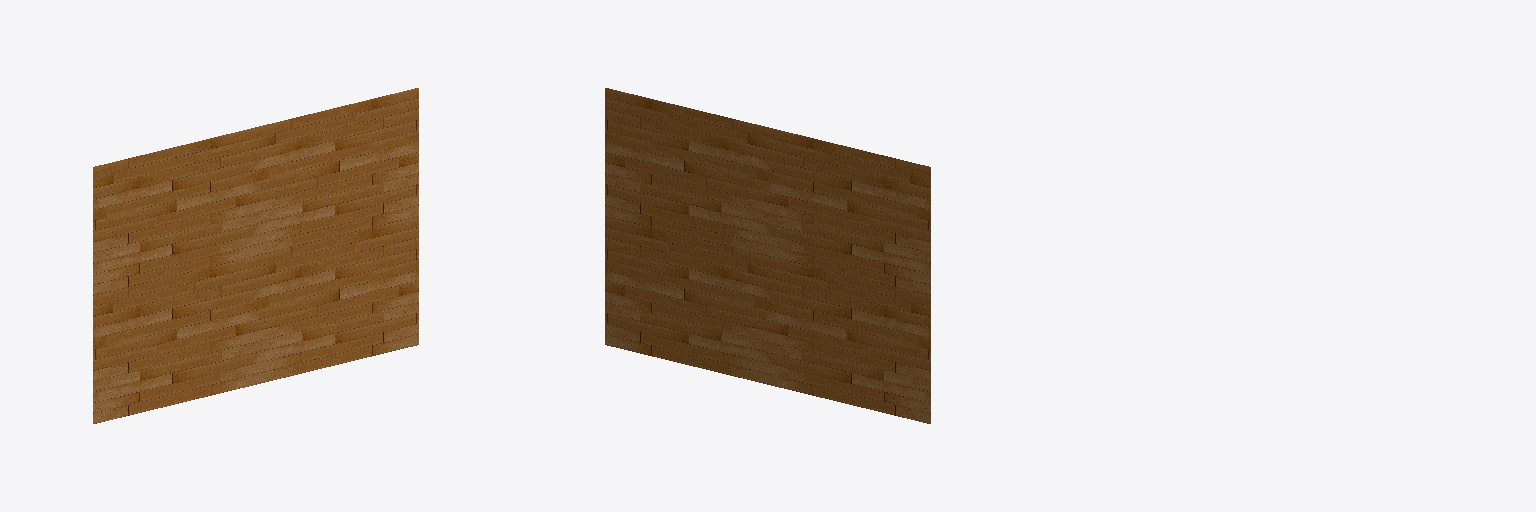
The picture shows the model from 3 angles: view 1: azimuth 30°, elevation 25°; view 2: azimuth 150°, elevation 25°; view 3: azimuth 270°, elevation 25°; orthographic projection.
Parts seen in each view (by area): view 1: Object.1; view 2: Object.1; view 3: none.
Boxes of the visible parts, <box> form: Object.1: <box>93,88,418,423</box>; Object.1: <box>605,88,930,423</box>.
Size of the model in its own units: 70.33 by 53.16 by 0.
Materials: 1 (1 with a texture image).